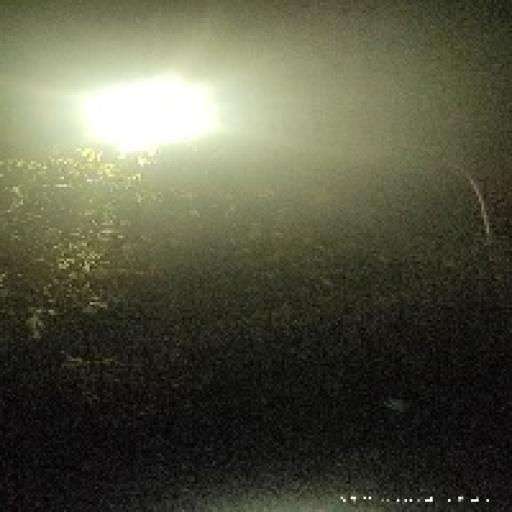Working: (51, 52, 235, 168)
